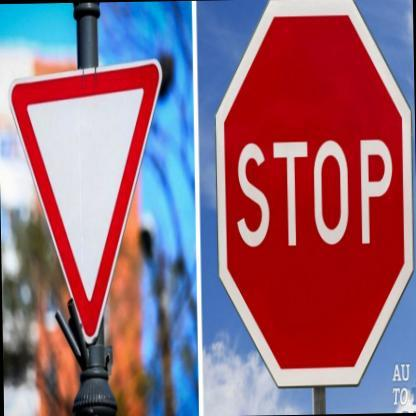road_sign: (215, 13, 414, 390), (9, 59, 163, 343)
